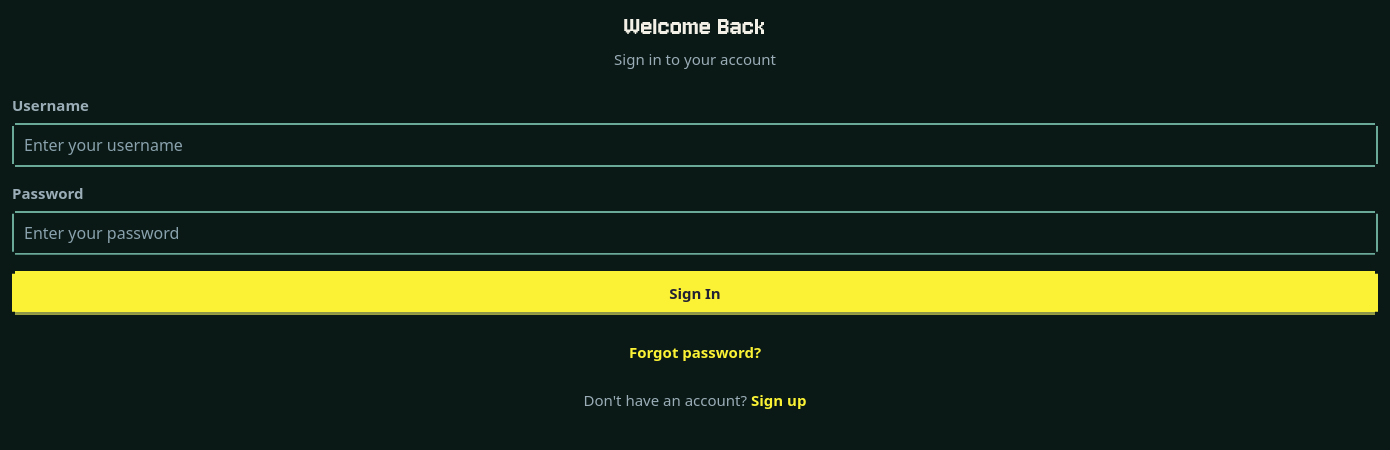
Test: LoginForm logging › a login refused by validation logs no password
The width and height of the screenshot is (1390, 450).
Type "Sup3r-Secret-pw!" into the password field labelled "Password" at (695, 233), box [12,211,1378,255]
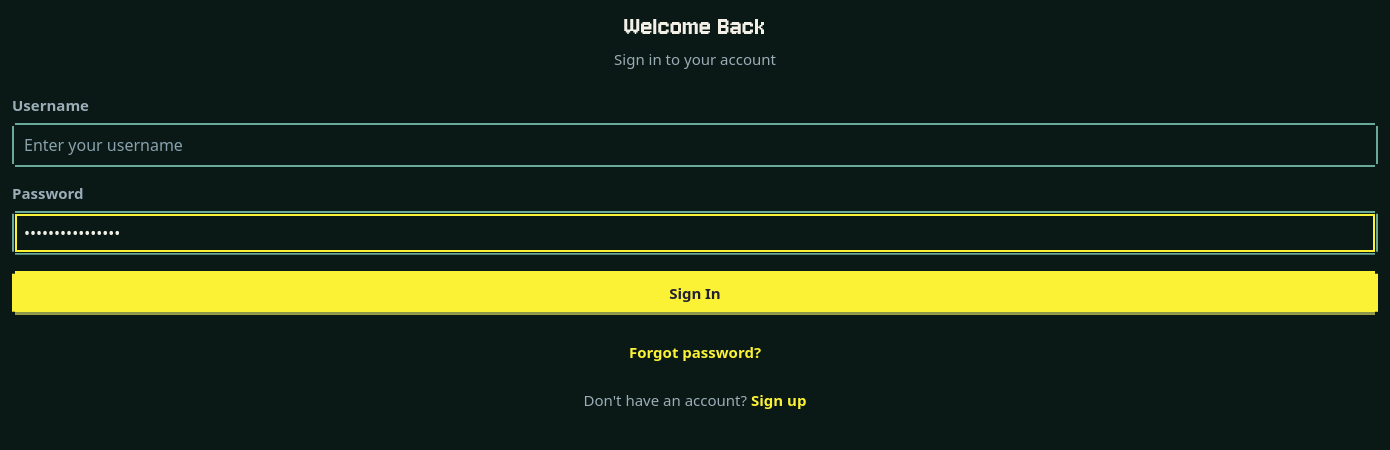
Click the button "Sign In" at (695, 293), box [12,271,1378,315]
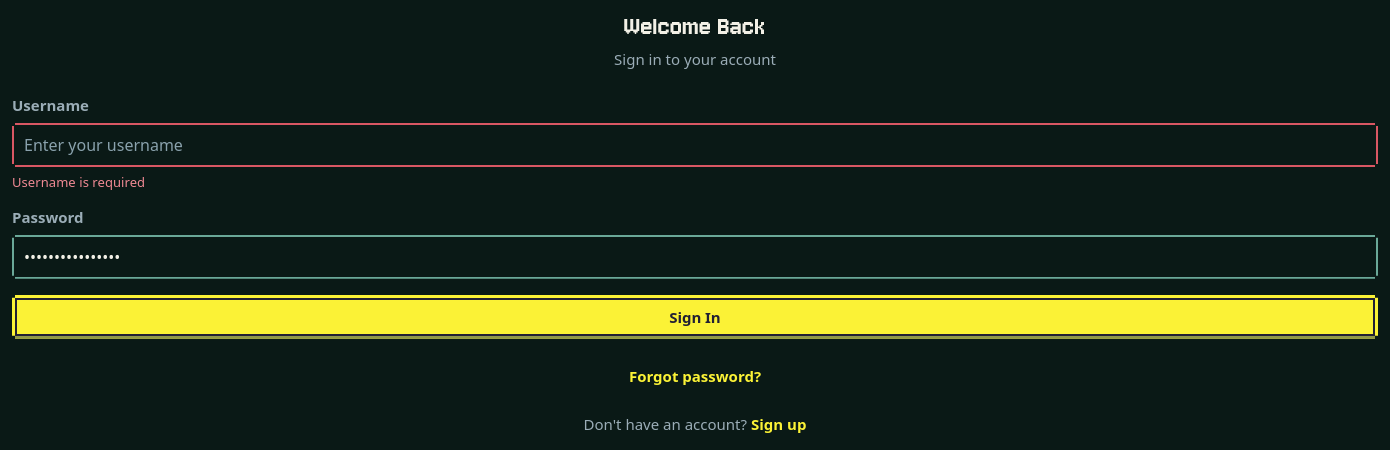
Check: the text "Username is required" is shown, box [12,173,145,191]
